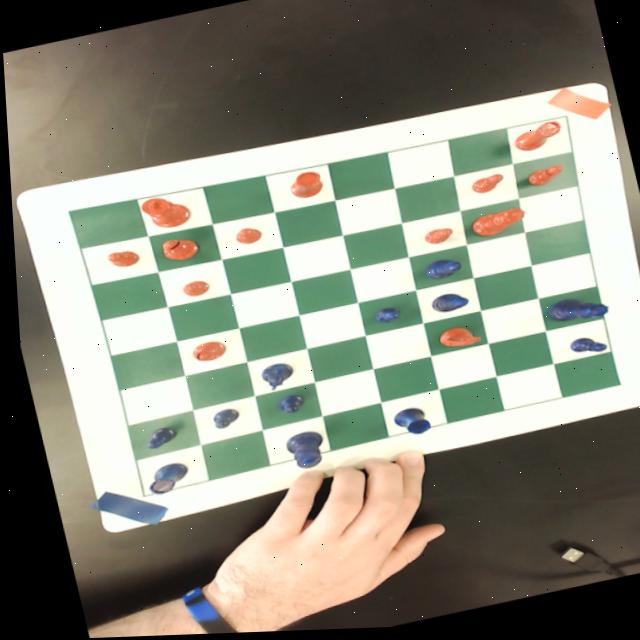B: (417, 257, 461, 284), (423, 291, 467, 317)
K: (277, 429, 325, 472)
N: (248, 358, 294, 393)
P: (562, 335, 606, 361), (134, 424, 175, 450), (204, 406, 238, 432), (270, 393, 304, 417), (366, 305, 401, 327)
Q: (540, 294, 607, 330)
R: (138, 460, 187, 497), (386, 406, 431, 441)
b: (156, 234, 198, 265), (187, 339, 223, 364)
k: (136, 191, 191, 233)
n: (431, 324, 481, 354)
p: (523, 166, 564, 191), (467, 175, 504, 198), (101, 247, 138, 270), (229, 224, 261, 248), (419, 228, 452, 249), (177, 278, 208, 299)
q: (465, 208, 527, 241)
r: (508, 122, 563, 156), (283, 170, 323, 201)
